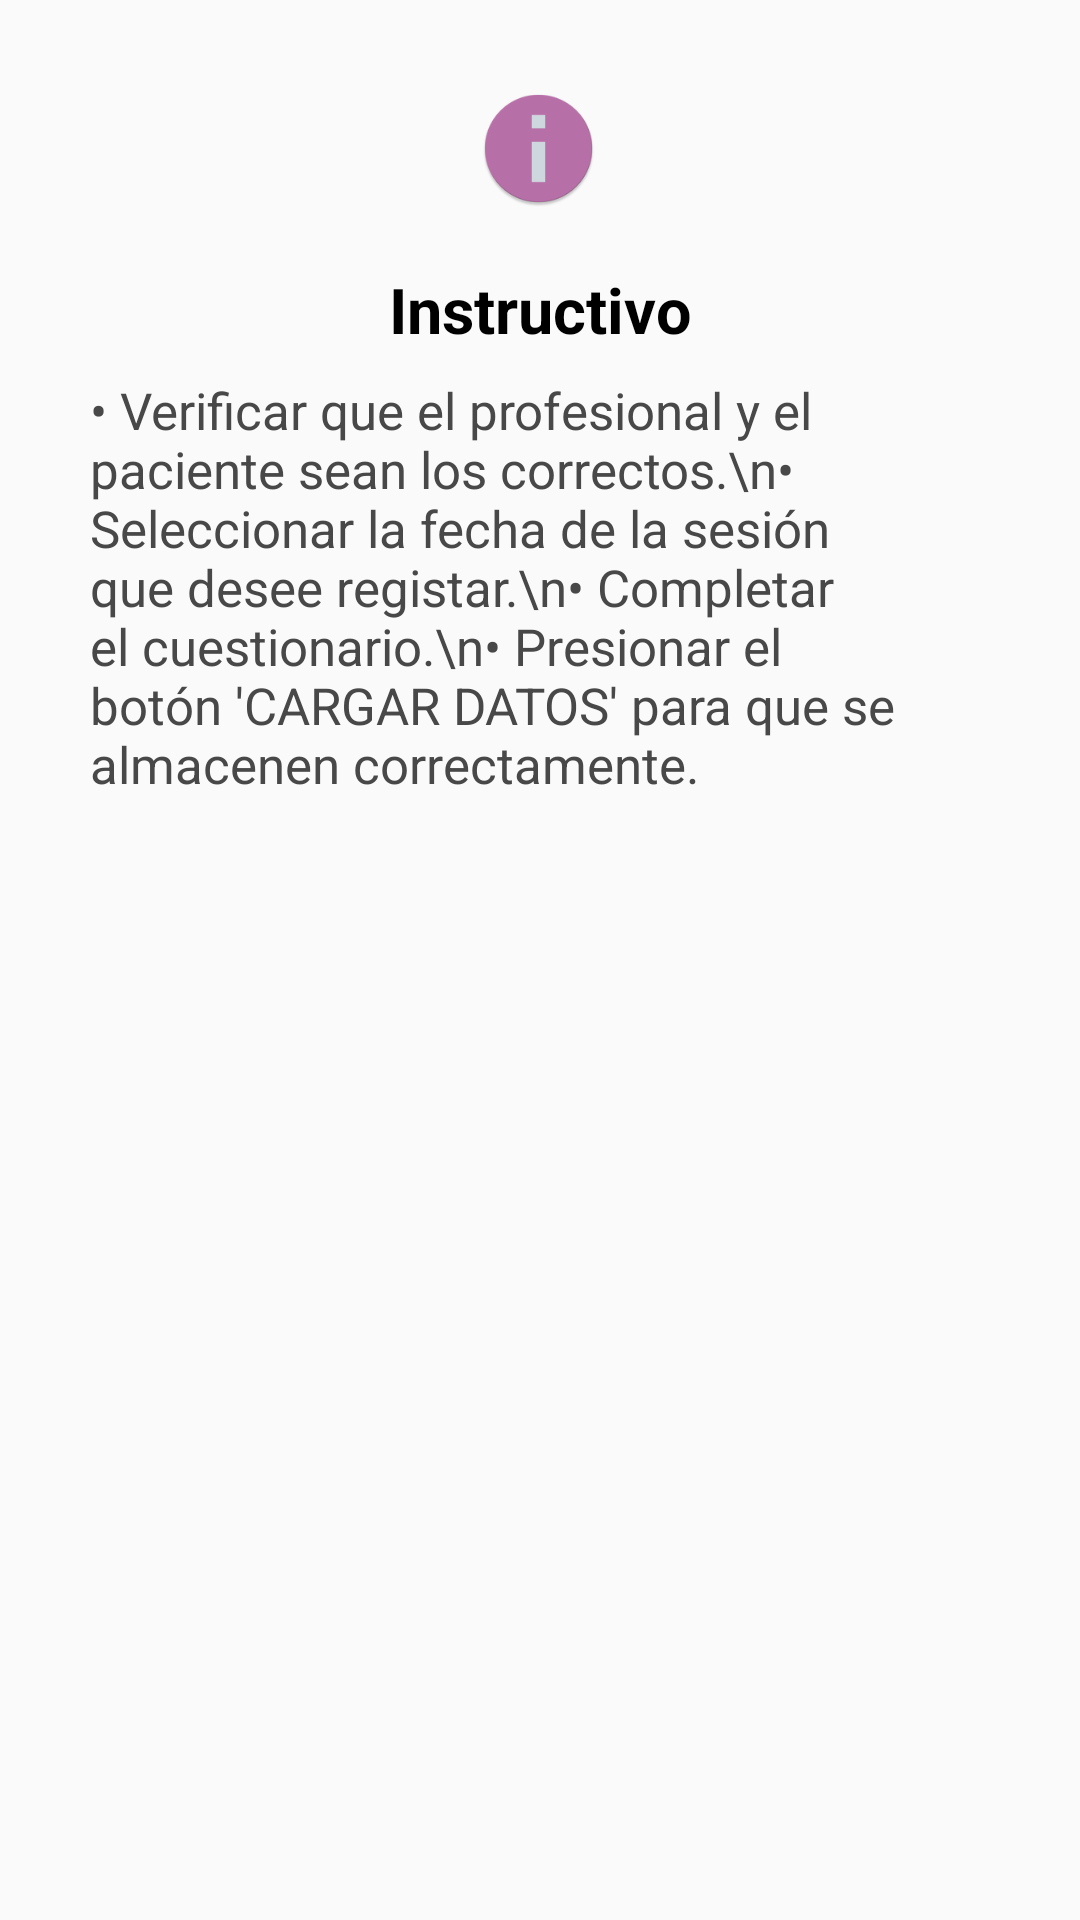

Where to tap for icons on this 1080 x 1920 app screen, as [x,y]:
informacion: [538,150]
